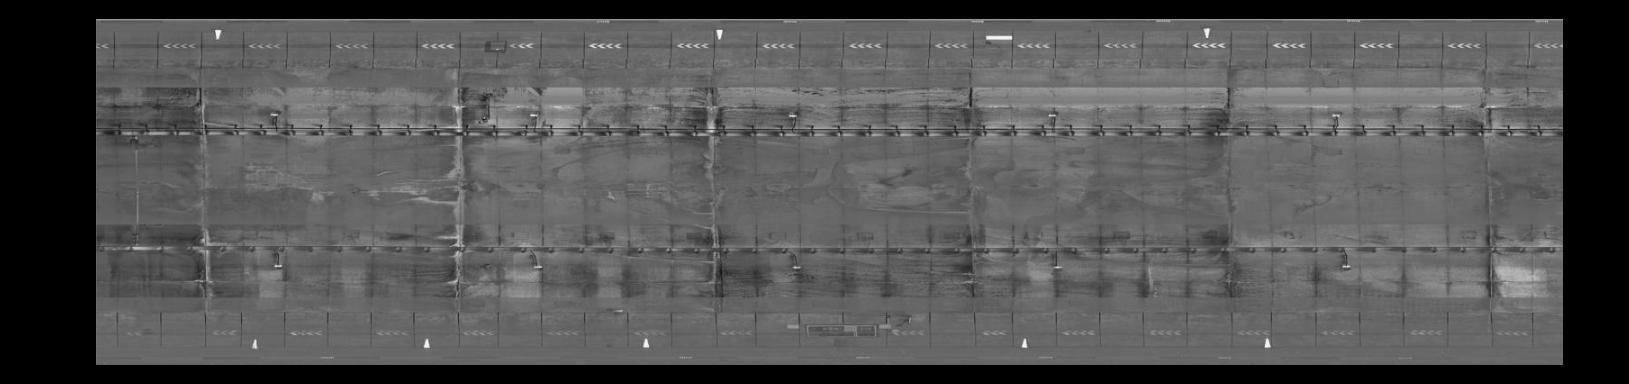light: (268, 259, 292, 274), (523, 110, 545, 121), (527, 262, 548, 273), (1337, 260, 1354, 273), (786, 263, 806, 273), (1047, 262, 1065, 273), (267, 109, 284, 120), (785, 110, 802, 121), (1326, 111, 1345, 120), (1042, 110, 1060, 119)
